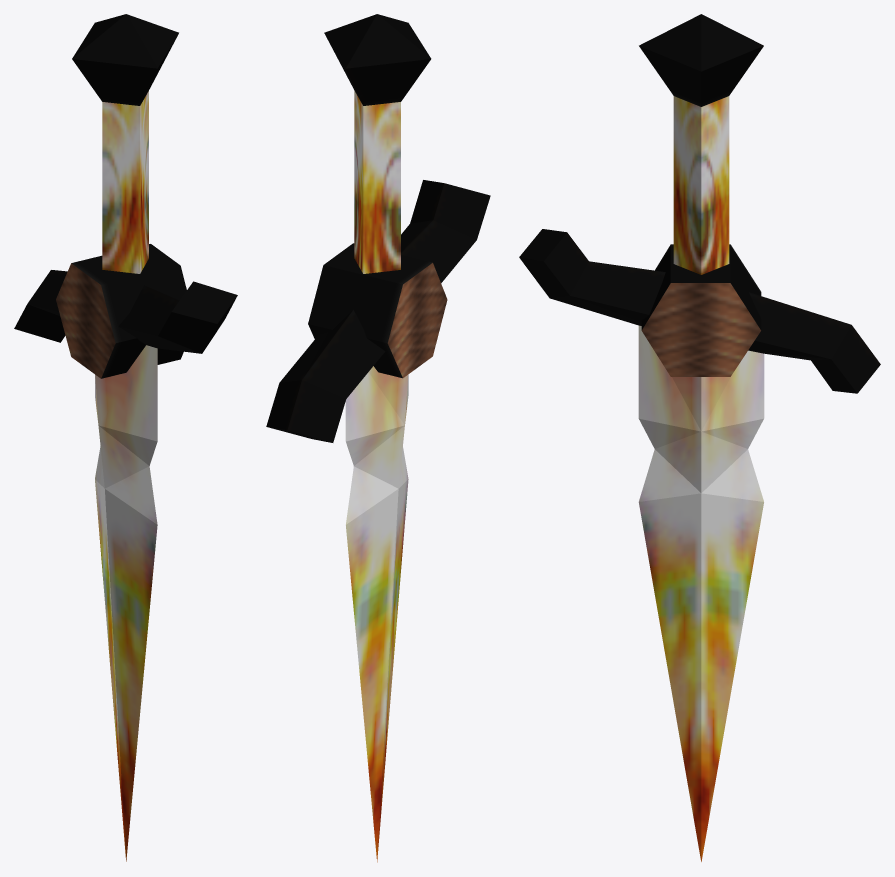
Rendered from twinblade02_3.obj.
3 renders of one model, left to right at view 1: azimuth 30°, elevation 25°; view 2: azimuth 150°, elevation 25°; view 3: azimuth 270°, elevation 25°, orthographic.
Parts seen in each view (by area): view 1: cwdhsw02_3l; view 2: cwdhsw02_3l; view 3: cwdhsw02_3l.
Boxes of the visible parts, x1,y1,x2,y2 form: cwdhsw02_3l: [14, 14, 237, 861]; cwdhsw02_3l: [266, 14, 490, 862]; cwdhsw02_3l: [519, 14, 880, 861].
Size of the model in its own units: 0.1062 by 0.8025 by 0.31.
